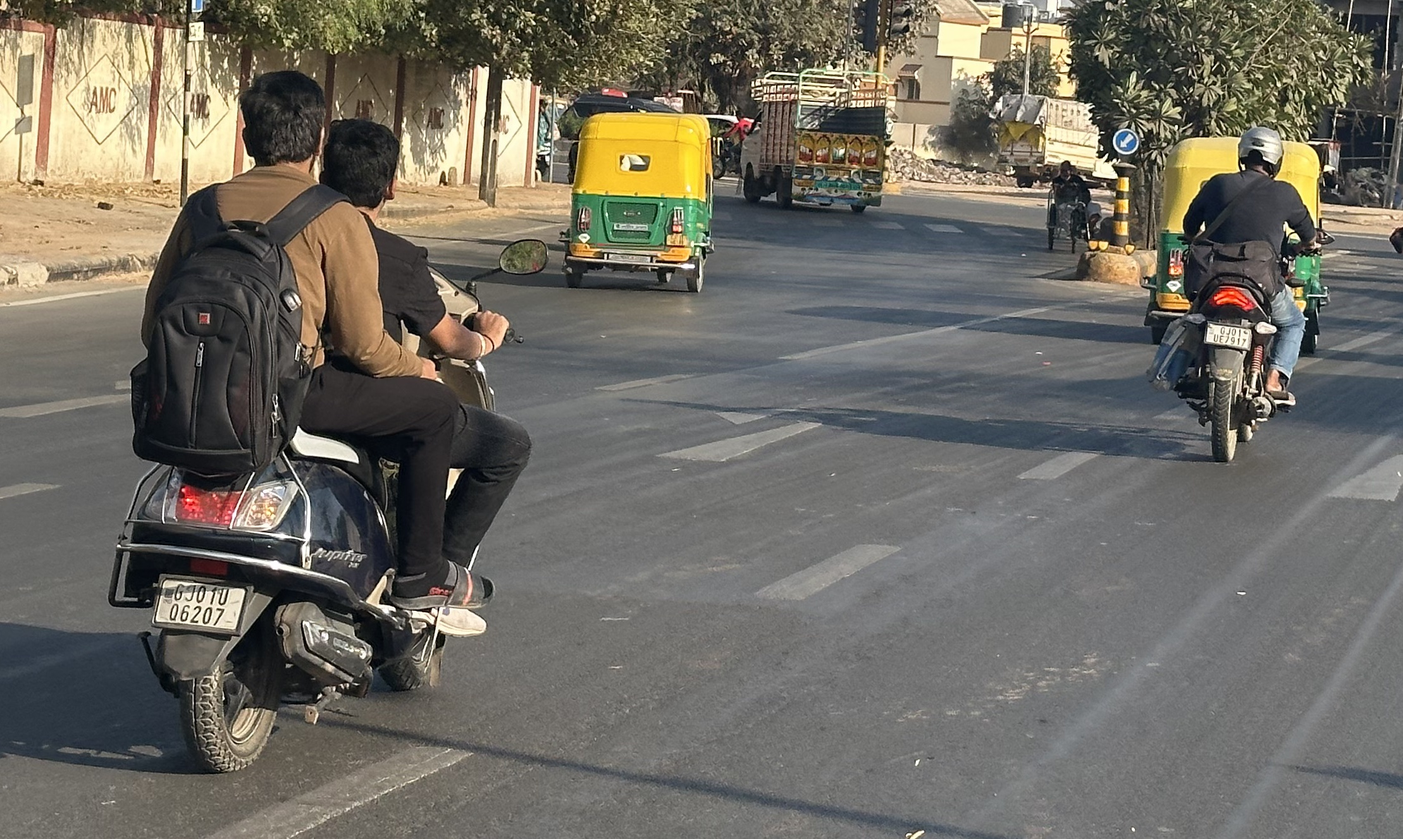BikeWithRider: (94, 61, 547, 781), (1137, 116, 1340, 473)
Helmet: (1228, 119, 1290, 180)
NoHelmet: (226, 61, 342, 184), (308, 111, 413, 222)
